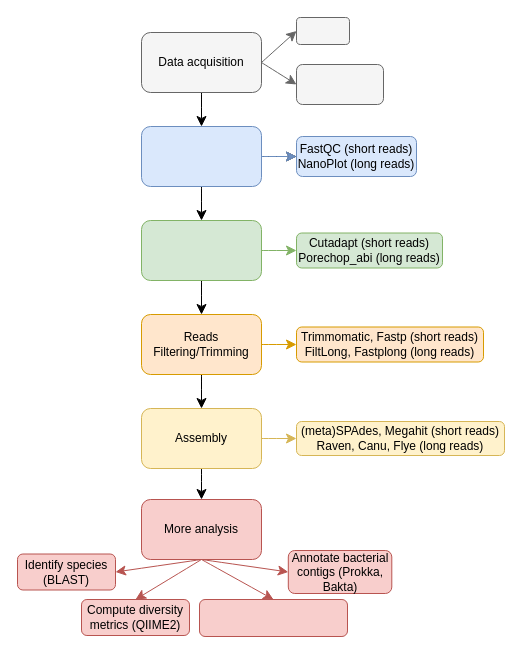
Image size: 522x654. Some labels were removed from this diagram. Each missing label, with the centre of its shape:
Barcodes trimming: the point at 201,250
Find reads from reference genome (Minimap2, BWA): the point at 273,617
Lab: the point at 323,30
NCBI (SRA Toolkit), EBI: the point at 340,84
Quality Control: the point at 201,156
